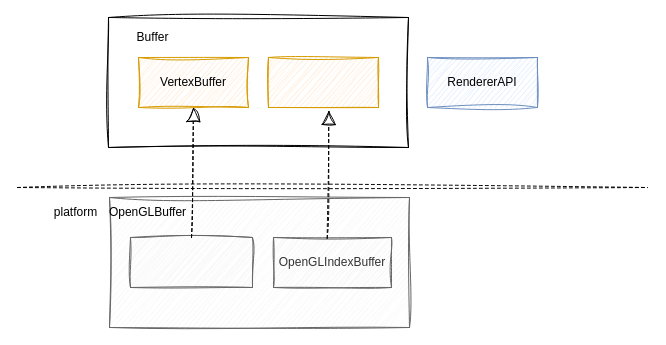
This 666x345 diagram has some shape labels left out. Here are the shapes that lost their labels. From the top down, the box of each, then its label:
(268, 56, 378, 108): IndexBuffer
(130, 236, 252, 288): OpenGLVertexBuffer
